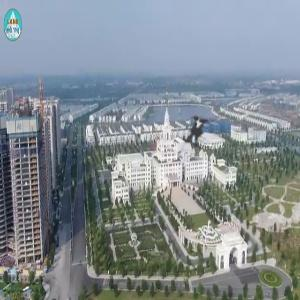drone: (156, 94, 237, 175)
